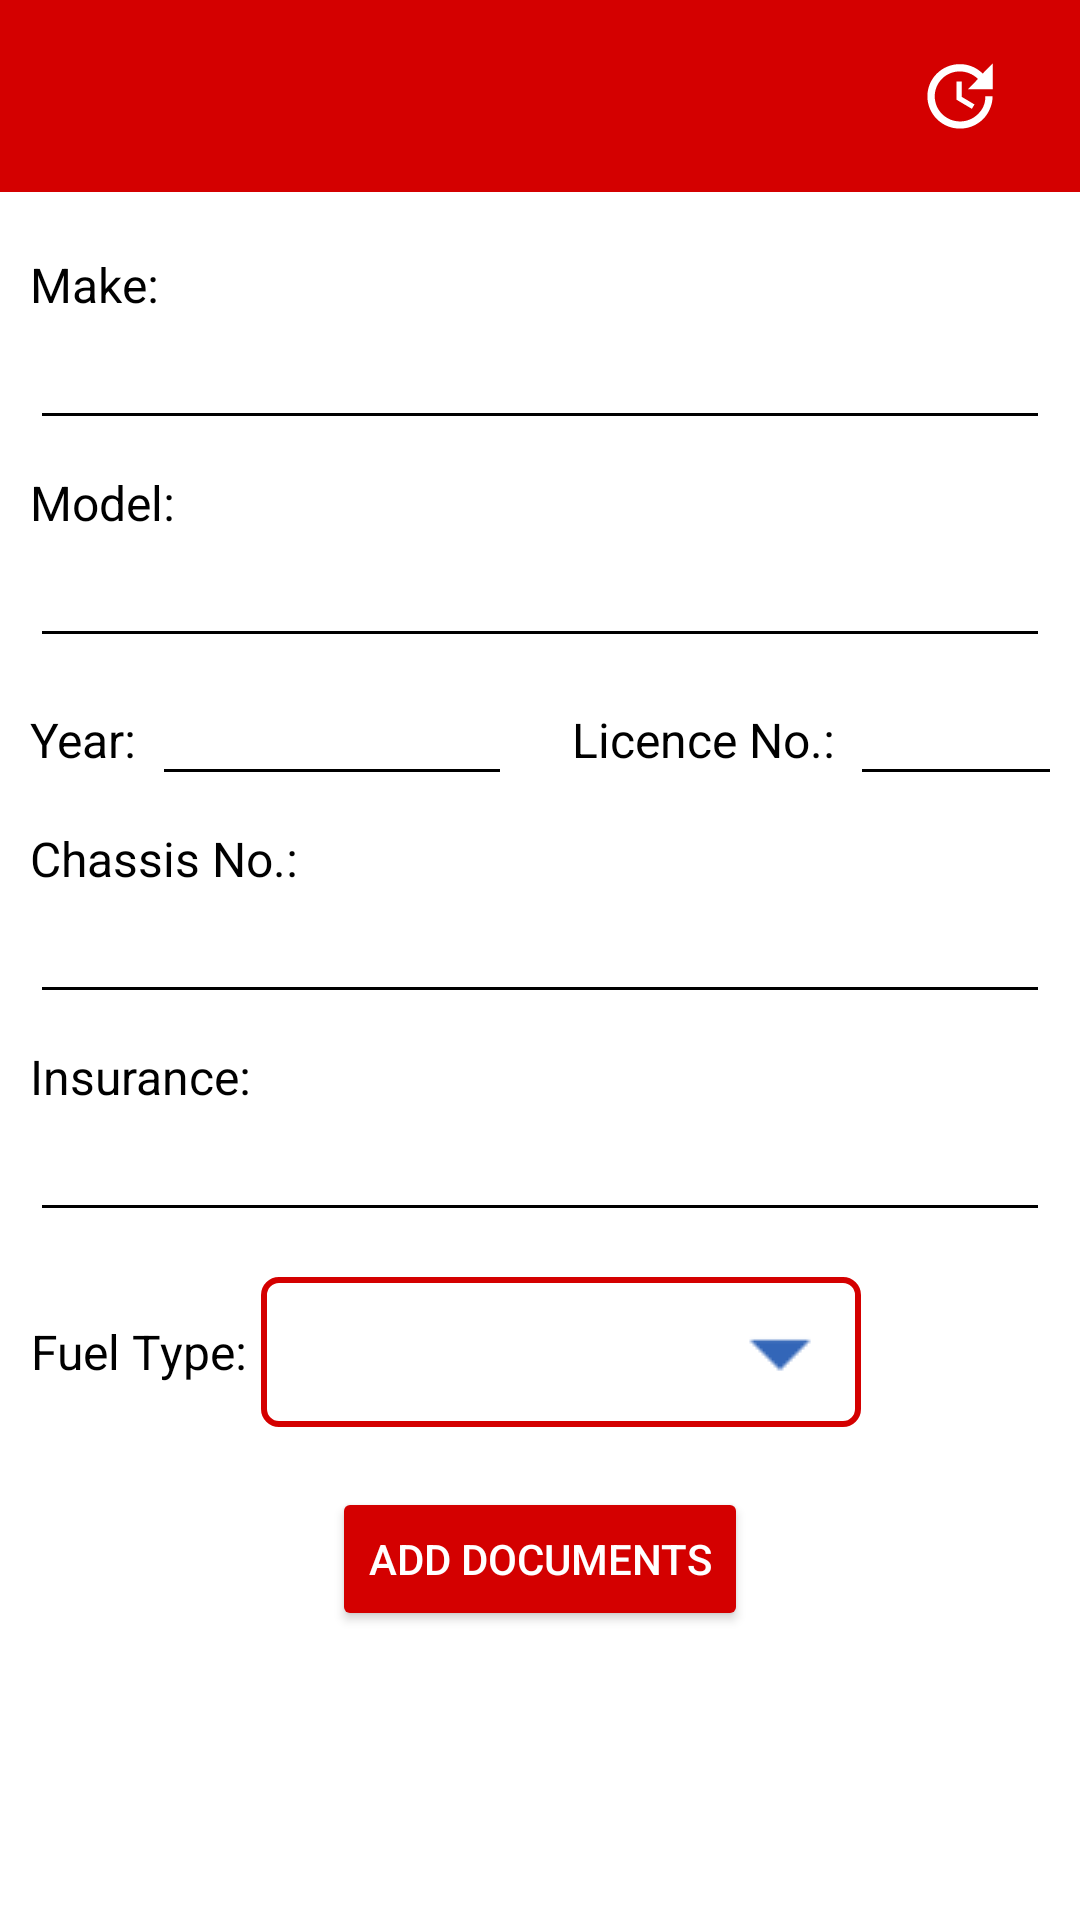

Named icons in this screenshot (1080w x 1920h) and their bounding boxes, (x1, y1, x2, y2):
update: (927, 63, 993, 129)
